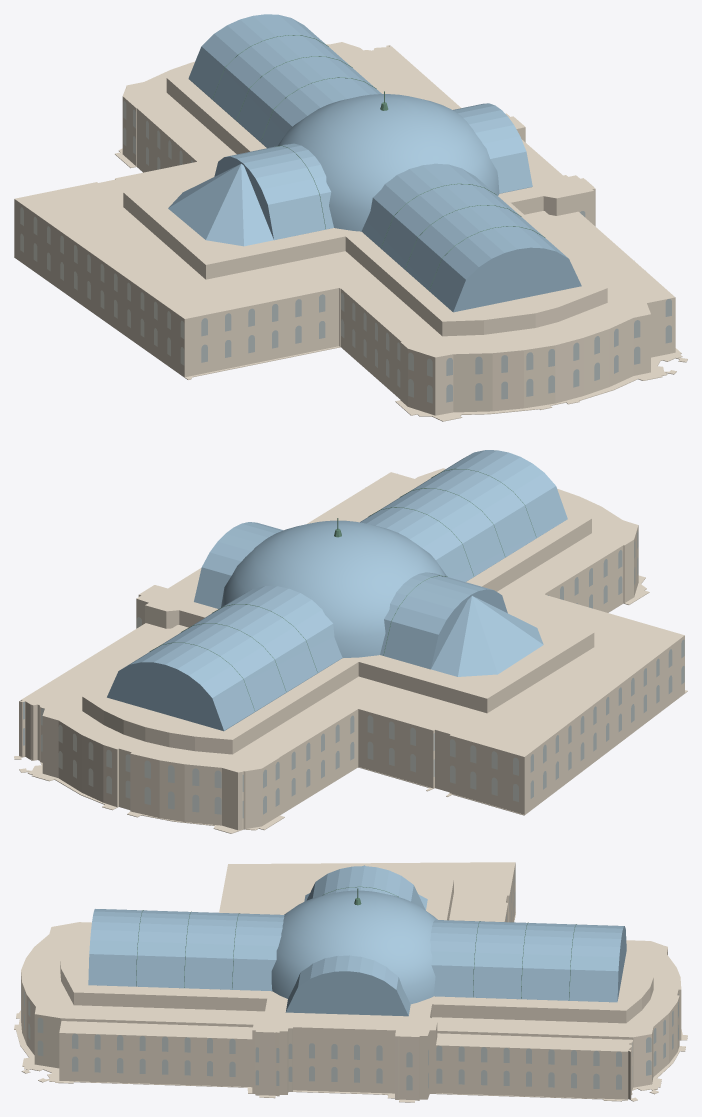
3 views of the same model, one above another, from view 1: azimuth 30°, elevation 25°; view 2: azimuth 150°, elevation 25°; view 3: azimuth 270°, elevation 25° (orthographic). The views are drawn at different scales.
Parts seen in each view (by area): view 1: stone, glass, window, metal; view 2: stone, glass, window, metal; view 3: stone, glass, window, metal.
Boxes of the visible parts, box(x1,y1,x2,y2) form: stone: box(14, 42, 687, 421); glass: box(168, 14, 581, 312); window: box(20, 101, 671, 403); metal: box(212, 35, 545, 290); stone: box(14, 468, 687, 833); glass: box(107, 450, 567, 731); window: box(23, 531, 684, 818); metal: box(149, 468, 536, 710); stone: box(14, 862, 687, 1102); glass: box(88, 865, 626, 1016); window: box(21, 869, 678, 1090); metal: box(136, 886, 576, 1000).
Size of the model in its own units: 160 by 56 by 240.
